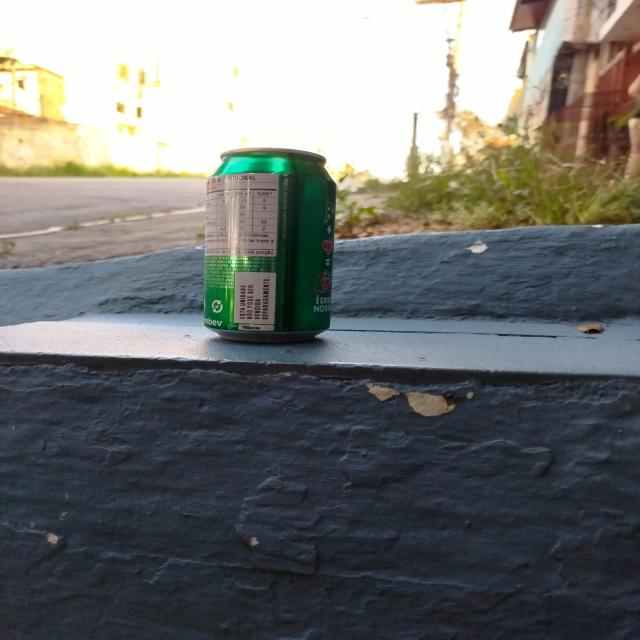Guarana: (205, 148, 337, 341)
